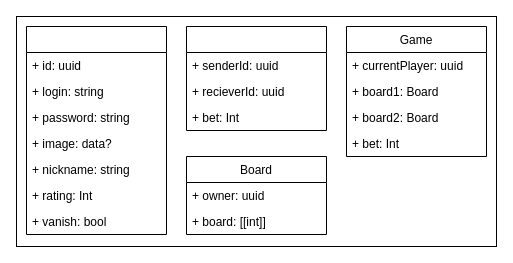
This 513x263 diagram has some shape labels left out. Here are the shapes that lost their labels. From the top down, the box of each, then its label:
(186, 26, 326, 130): Challenge
(26, 26, 166, 234): Player
